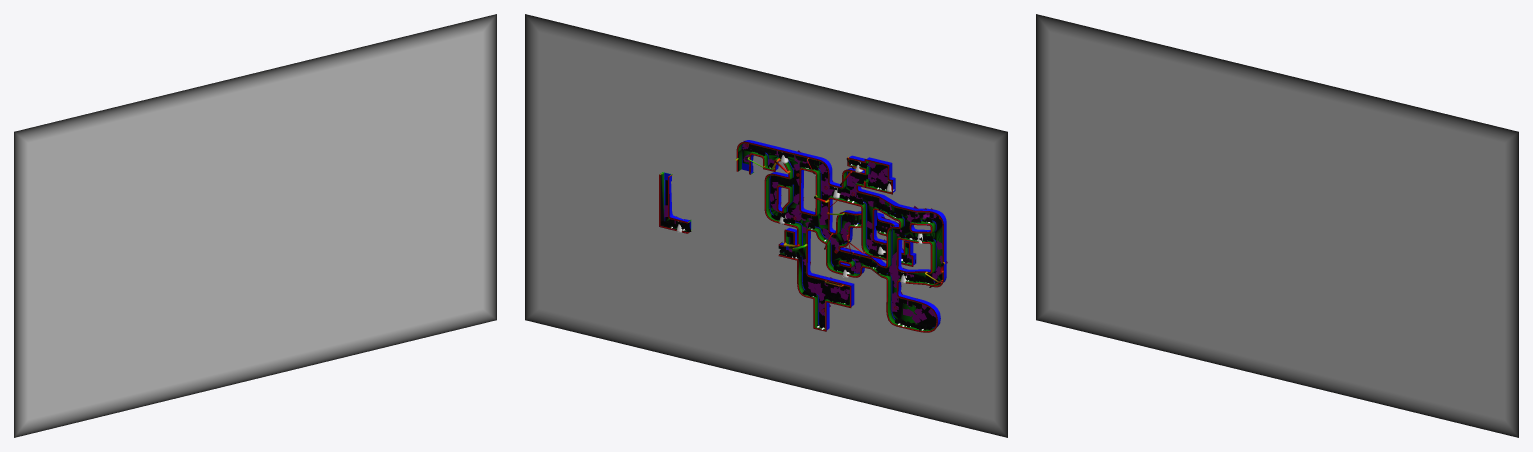
The model's file is lvlmodel_test4.fbx.
3 renders of one model, left to right at view 1: azimuth 30°, elevation 25°; view 2: azimuth 150°, elevation 25°; view 3: azimuth 330°, elevation 25°, orthographic.
Visible parts, largest first — view 1: model_geometry; view 2: model_geometry; view 3: model_geometry.
Part boxes in pixels (<box>): model_geometry: <box>14,14,496,437</box>; model_geometry: <box>525,14,1007,437</box>; model_geometry: <box>1036,14,1518,437</box>.
Size of what is drawn, in the model's own units: 20751 by 12569 by 1393.
